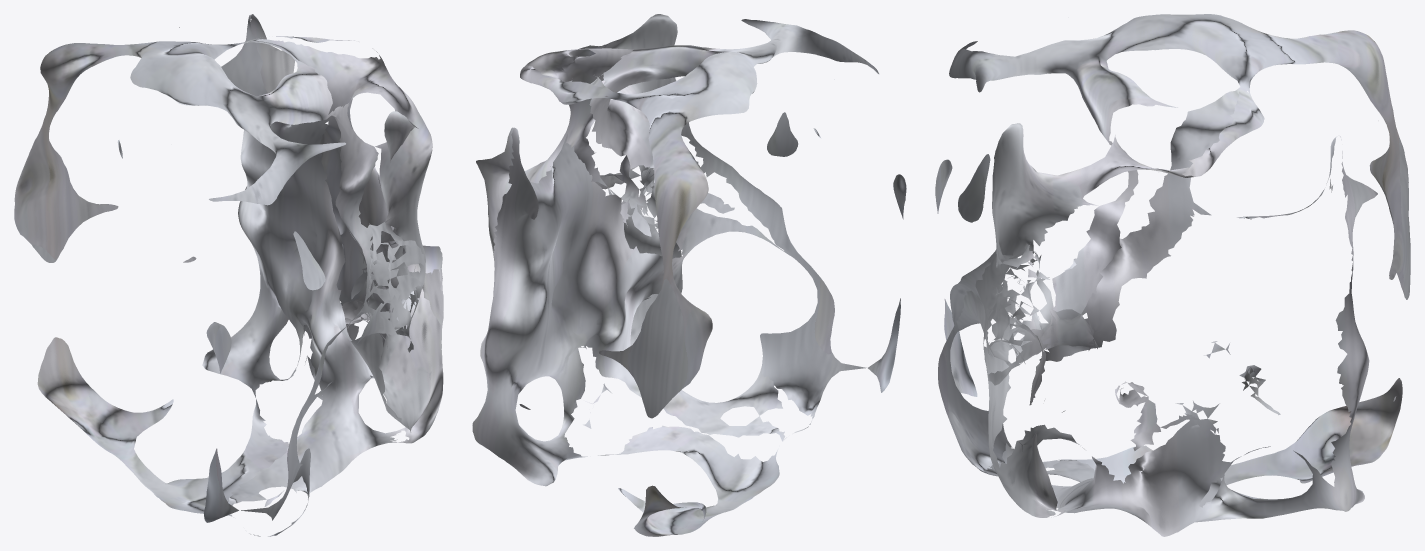
3 views of the same model, side by side, from view 1: azimuth 30°, elevation 25°; view 2: azimuth 150°, elevation 25°; view 3: azimuth 270°, elevation 25° (orthographic). The views are drawn at different scales.
Parts seen in each view (by area): view 1: Renderer Node; view 2: Renderer Node; view 3: Renderer Node.
Boxes of the visible parts, x1,y1,x2,y2 form: Renderer Node: (14, 14, 443, 536); Renderer Node: (472, 14, 906, 536); Renderer Node: (935, 14, 1410, 536).
Size of the model in its own units: 1.56 by 2.31 by 2.05.
Materials: 1 (1 with a texture image).
